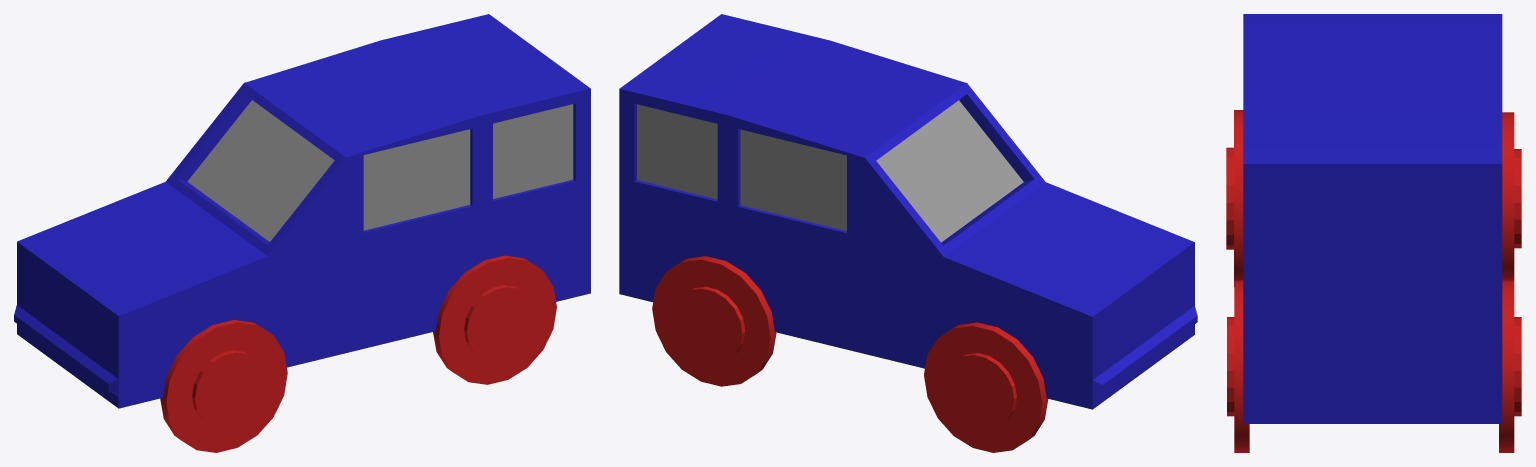
The model's file is Toycar.FBX.
3 views of the same model, side by side, from view 1: azimuth 30°, elevation 25°; view 2: azimuth 150°, elevation 25°; view 3: azimuth 270°, elevation 25° (orthographic). The views are drawn at different scales.
Parts seen in each view (by area): view 1: Box001, Object001, Cylinder002, Cylinder001, Object003; view 2: Box001, Object002, Cylinder003, Cylinder004, Object003; view 3: Box001, Cylinder003, Cylinder004, Cylinder001, Cylinder002.
Boxes of the visible parts, bbox=[...] form: Box001: bbox=[14, 14, 590, 408]; Object001: bbox=[363, 104, 573, 230]; Cylinder002: bbox=[160, 320, 287, 452]; Cylinder001: bbox=[433, 255, 556, 384]; Object003: bbox=[187, 100, 334, 241]; Box001: bbox=[619, 14, 1197, 409]; Object002: bbox=[637, 104, 846, 230]; Cylinder003: bbox=[652, 256, 776, 386]; Cylinder004: bbox=[924, 322, 1048, 452]; Object003: bbox=[876, 100, 1023, 242]; Box001: bbox=[1243, 14, 1502, 423]; Cylinder003: bbox=[1499, 280, 1521, 452]; Cylinder004: bbox=[1502, 112, 1521, 280]; Cylinder001: bbox=[1227, 280, 1249, 452]; Cylinder002: bbox=[1226, 110, 1243, 286].
Size of the model in its own units: 15.02 by 8.08 by 6.33.
